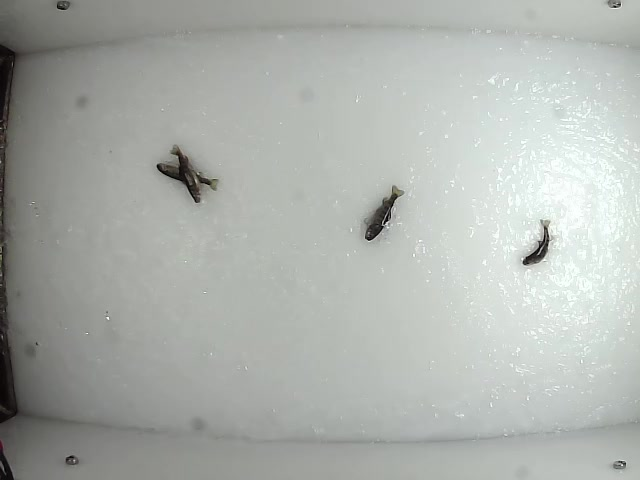fish: (361, 182, 406, 244), (154, 160, 222, 194), (169, 143, 202, 205), (519, 216, 552, 268)
